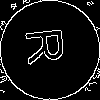R: (25, 25, 74, 66)
